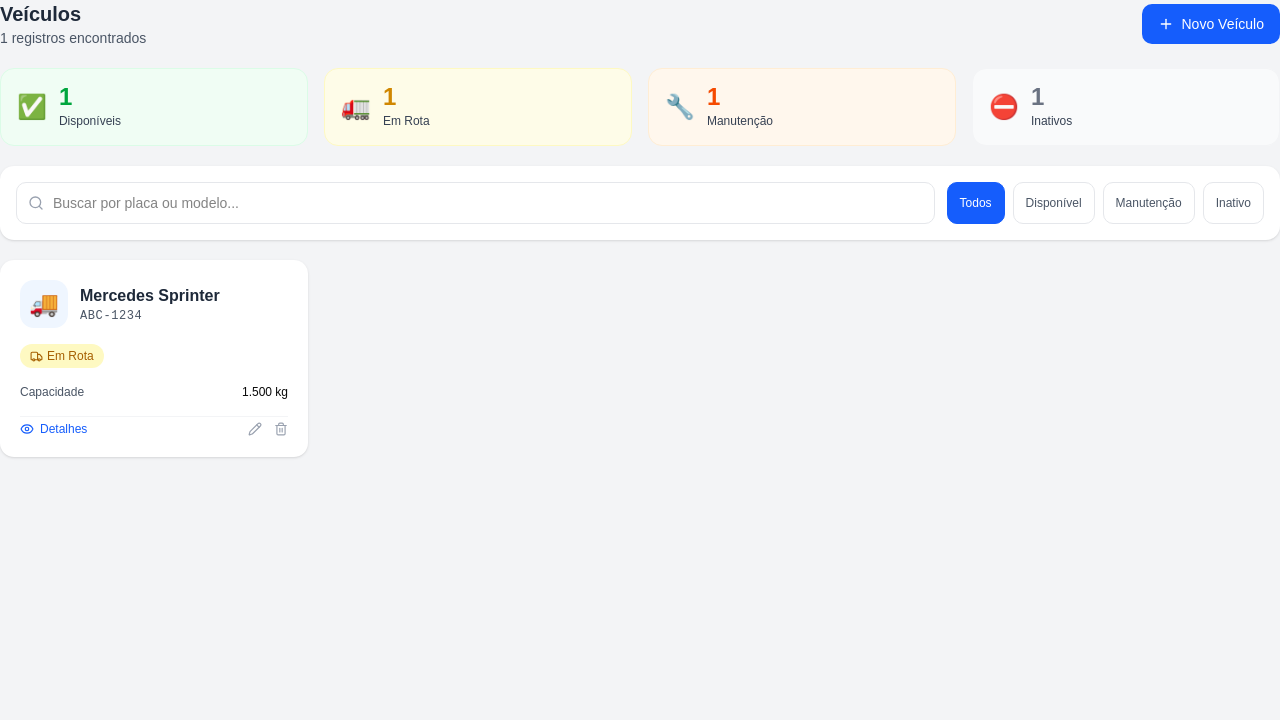
Veiculos › exibe a mensagem de erro da API quando a exclusão é bloqueada (RN04)
This screenshot has width=1280, height=720.
Expected: the text "Mercedes Sprinter" is shown, top-left (80, 284), bottom-right (220, 308)
Click the button named "Excluir ABC-1234": [281, 429] box top-left (274, 422), bottom-right (288, 436)
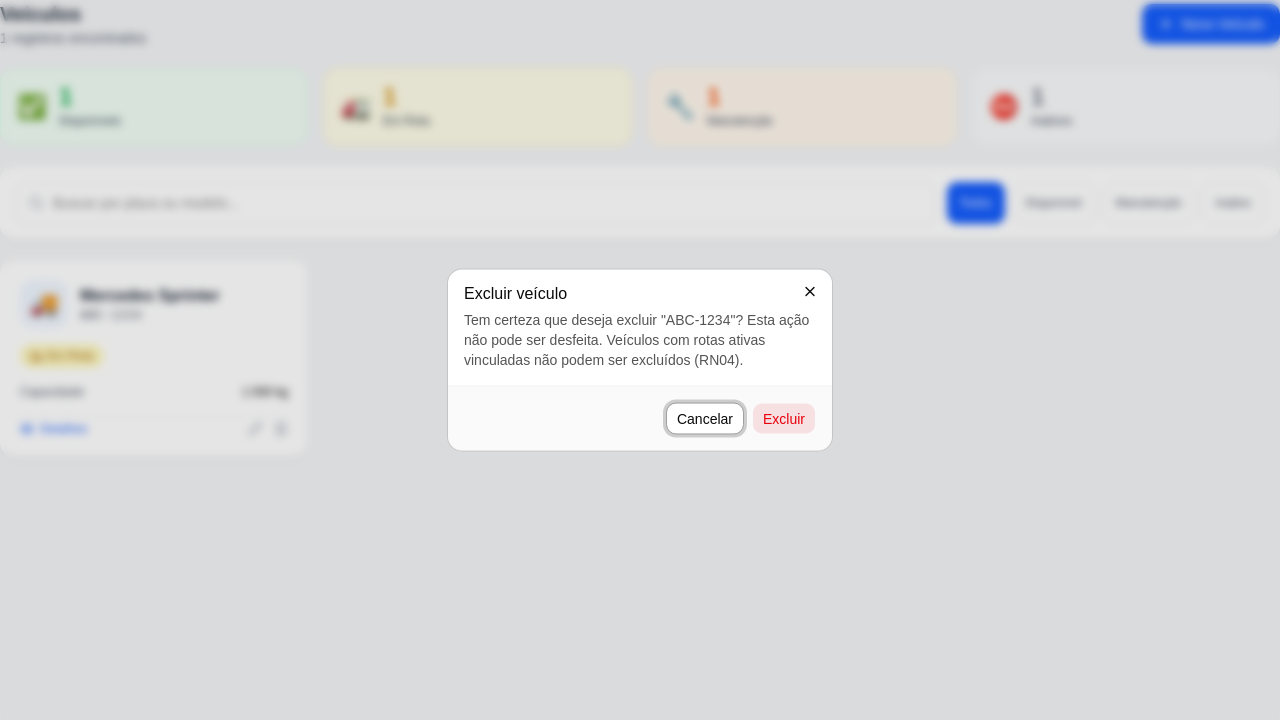
Click the button "Excluir": [784, 418] box top-left (752, 402), bottom-right (816, 434)
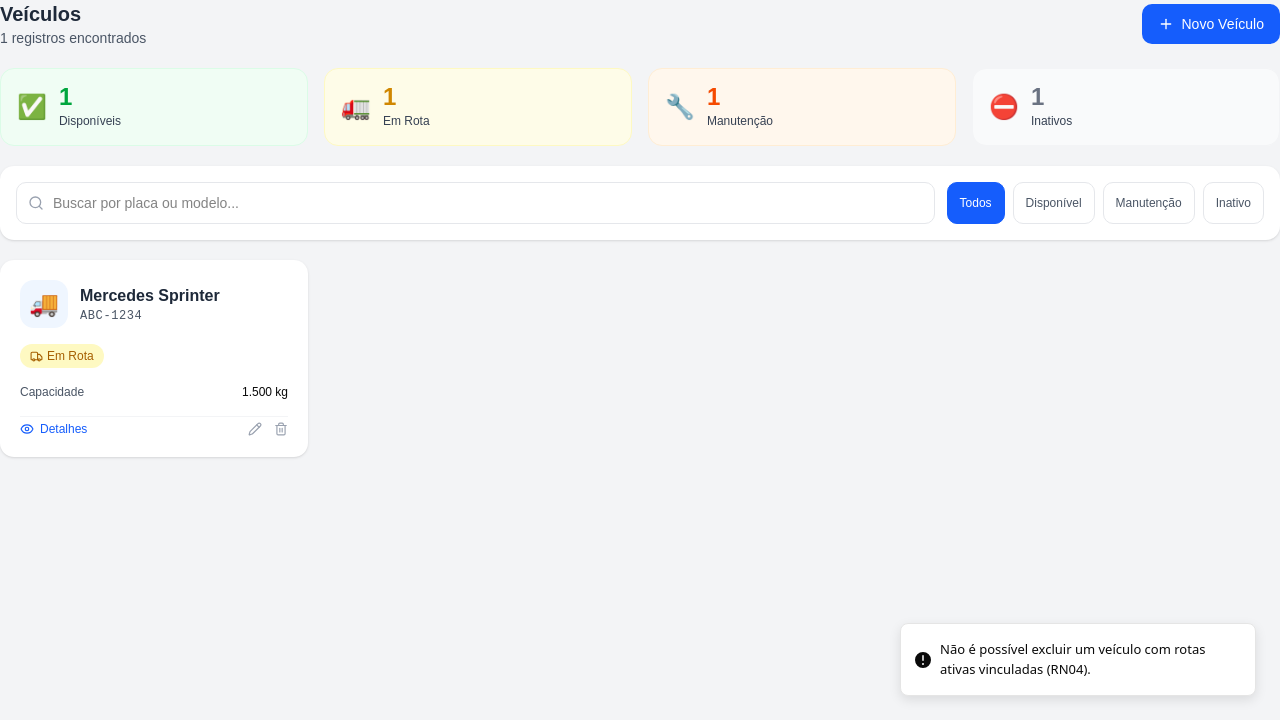
Expected: the text "Não é possível excluir um veículo com rotas ativas vinculadas (RN04)." is shown, top-left (940, 640), bottom-right (1239, 679)
